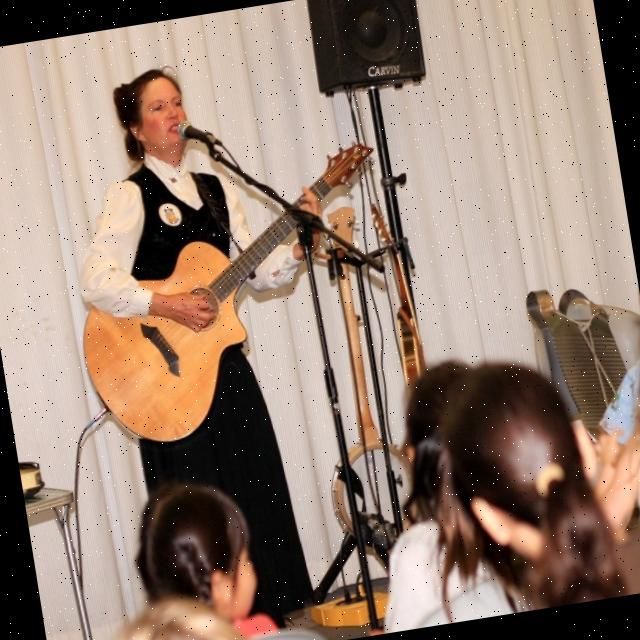guitar: (57, 138, 416, 460)
